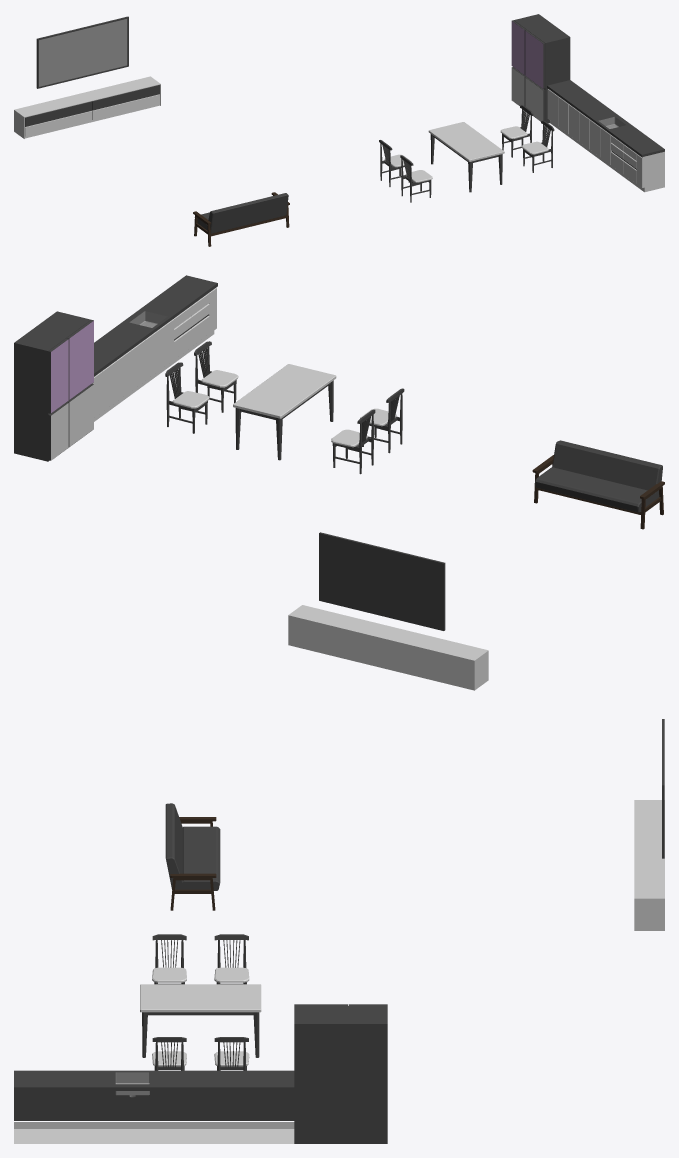
Rendered from House_Object.fbx.
The picture shows the model from 3 angles, top to bottom: view 1: azimuth 30°, elevation 25°; view 2: azimuth 150°, elevation 25°; view 3: azimuth 270°, elevation 25°; orthographic projection. The views are drawn at different scales.
Parts seen in each view (by area): view 1: kitchen_sink01_close_1__1_, fridge01_close_2__1_, TV, RoomFurniture_05, chair_sofa01_4, table01_1, chair01_2__3_, chair01_2__2_, chair01_2, chair01_2__1_; view 2: fridge01_close_2__1_, kitchen_sink01_close_1__1_, TV, RoomFurniture_05, chair_sofa01_4, table01_1, chair01_2__2_, chair01_2__3_, chair01_2__1_, chair01_2; view 3: kitchen_sink01_close_1__1_, fridge01_close_2__1_, table01_1, chair_sofa01_4, RoomFurniture_05, chair01_2__1_, chair01_2, chair01_2__3_, chair01_2__2_.
Boxes of the visible parts, box(x1,y1,x2,y2) form: kitchen_sink01_close_1__1_: box(547, 80, 664, 192); fridge01_close_2__1_: box(511, 14, 570, 123); TV: box(36, 16, 128, 88); RoomFurniture_05: box(14, 76, 160, 138); chair_sofa01_4: box(193, 192, 289, 246); table01_1: box(428, 122, 504, 192); chair01_2__3_: box(521, 120, 554, 172); chair01_2__2_: box(500, 105, 533, 157); chair01_2: box(400, 155, 432, 202); chair01_2__1_: box(379, 140, 411, 186); fridge01_close_2__1_: box(14, 311, 93, 461); kitchen_sink01_close_1__1_: box(92, 275, 217, 421); TV: box(319, 532, 445, 630); RoomFurniture_05: box(288, 605, 488, 690); chair_sofa01_4: box(532, 440, 664, 529); table01_1: box(233, 364, 336, 460); chair01_2__2_: box(165, 362, 209, 433); chair01_2__3_: box(194, 341, 238, 412); chair01_2__1_: box(331, 409, 375, 474); chair01_2: box(360, 388, 404, 453); kitchen_sink01_close_1__1_: box(14, 1070, 294, 1143); fridge01_close_2__1_: box(294, 1004, 387, 1143); table01_1: box(140, 984, 261, 1057); chair_sofa01_4: box(165, 803, 220, 910); RoomFurniture_05: box(634, 800, 664, 930); chair01_2__1_: box(214, 934, 249, 984); chair01_2: box(152, 934, 186, 984); chair01_2__3_: box(152, 1037, 186, 1070); chair01_2__2_: box(214, 1037, 249, 1070).
Bounding box in the file's own units: 947 × 184 × 837.
